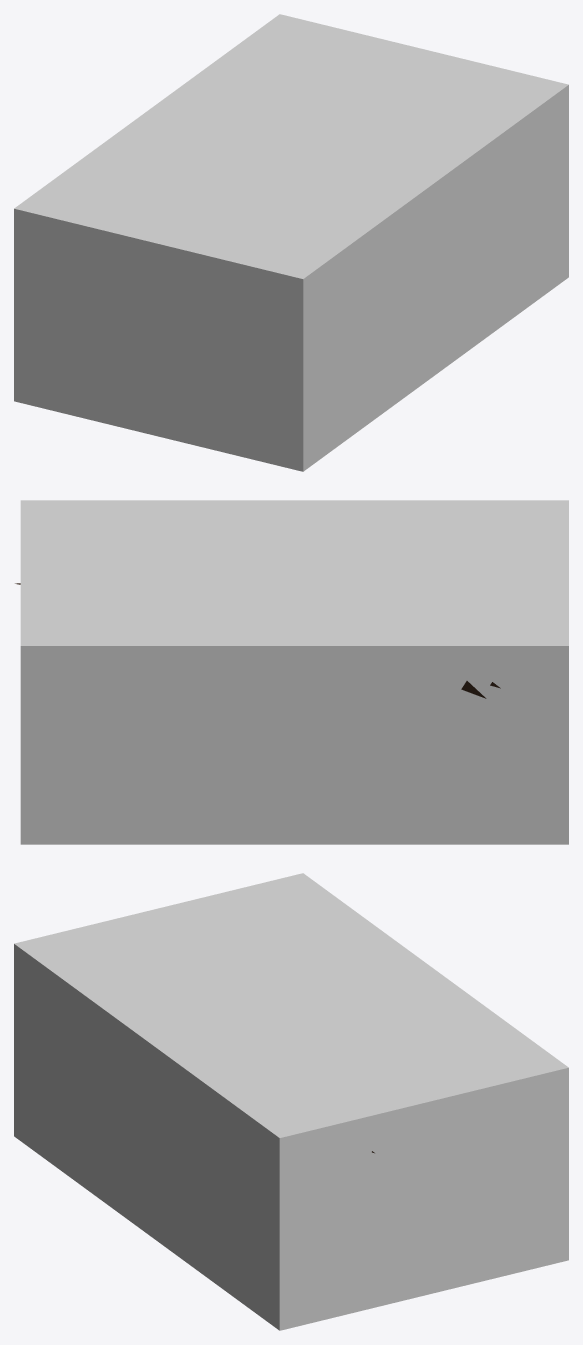
Rendered from desert_vulture.fbx.
3 views of the same model, one above another, from view 1: azimuth 30°, elevation 25°; view 2: azimuth 150°, elevation 25°; view 3: azimuth 270°, elevation 25° (orthographic). The views are drawn at different scales.
Visible parts, largest first — view 1: Root__0.00_2.00_0.04__10.00_4.00_6.28; view 2: Root__0.00_2.00_0.04__10.00_4.00_6.28; view 3: Root__0.00_2.00_0.04__10.00_4.00_6.28.
Part boxes in pixels (x1,y1,x2,y2): Root__0.00_2.00_0.04__10.00_4.00_6.28: (14,14,568,471); Root__0.00_2.00_0.04__10.00_4.00_6.28: (20,500,568,844); Root__0.00_2.00_0.04__10.00_4.00_6.28: (14,873,568,1330).
Bounding box in the file's own units: 330 × 112 × 292.
Materials: 1 (1 with a texture image).
